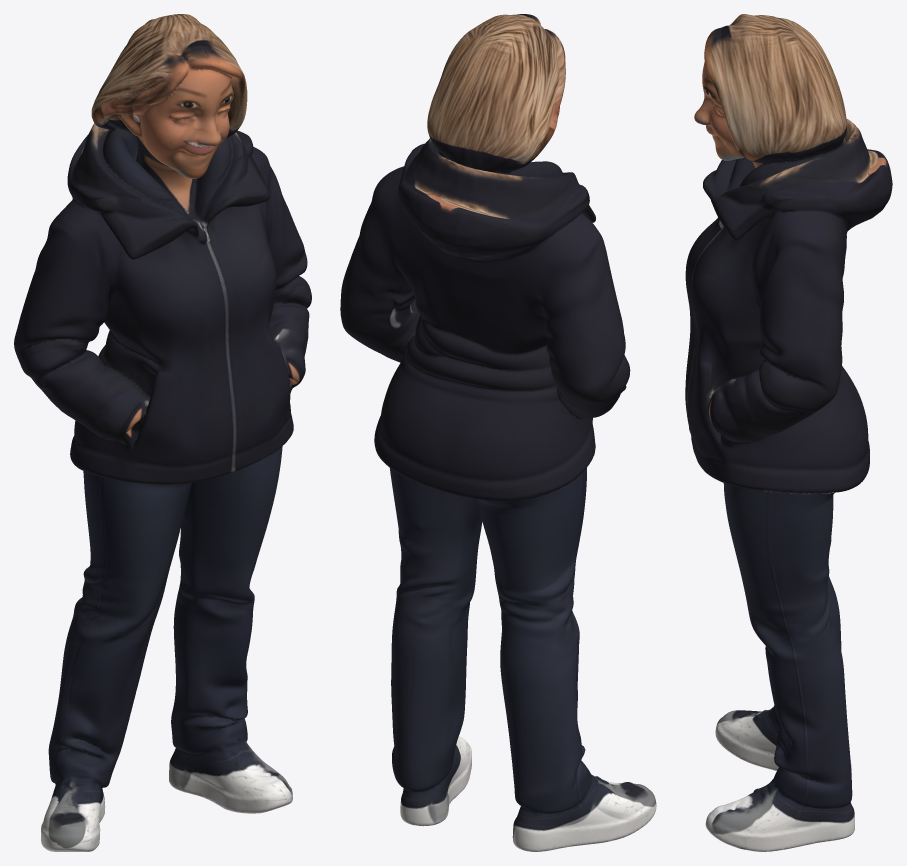
The model's file is sandy.glb.
The picture shows the model from 3 angles, left to right: view 1: azimuth 30°, elevation 25°; view 2: azimuth 150°, elevation 25°; view 3: azimuth 270°, elevation 25°; orthographic projection.
Visible parts, largest first — view 1: tripo_node_2f350c61-e177-4f67-899f-2d41c307e5fe; view 2: tripo_node_2f350c61-e177-4f67-899f-2d41c307e5fe; view 3: tripo_node_2f350c61-e177-4f67-899f-2d41c307e5fe.
Boxes of the visible parts, box(x1,y1,x2,y2) form: tripo_node_2f350c61-e177-4f67-899f-2d41c307e5fe: box(14, 14, 311, 851); tripo_node_2f350c61-e177-4f67-899f-2d41c307e5fe: box(340, 14, 656, 851); tripo_node_2f350c61-e177-4f67-899f-2d41c307e5fe: box(685, 14, 892, 851).
Size of the model in its own units: 0.3671 by 1 by 0.2383.
Materials: 1 (1 with a texture image).
